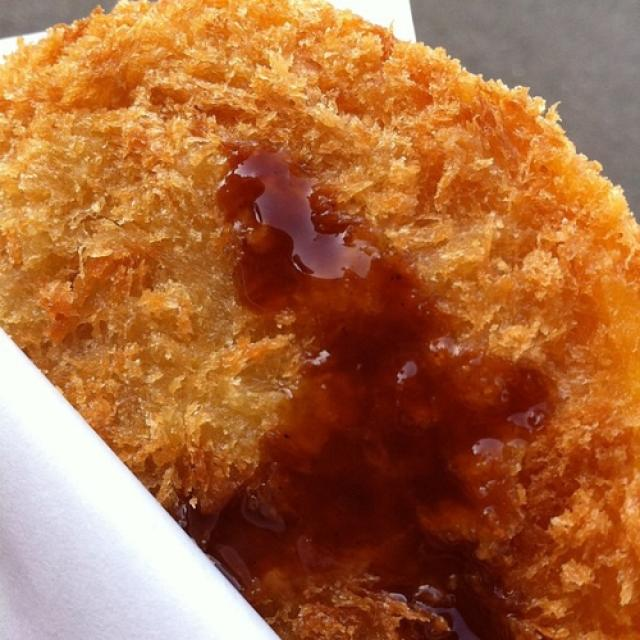炸货点心: (23, 18, 627, 613)
